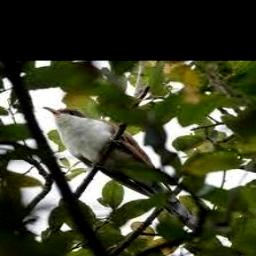Cuckoo: (44, 106, 201, 229)
